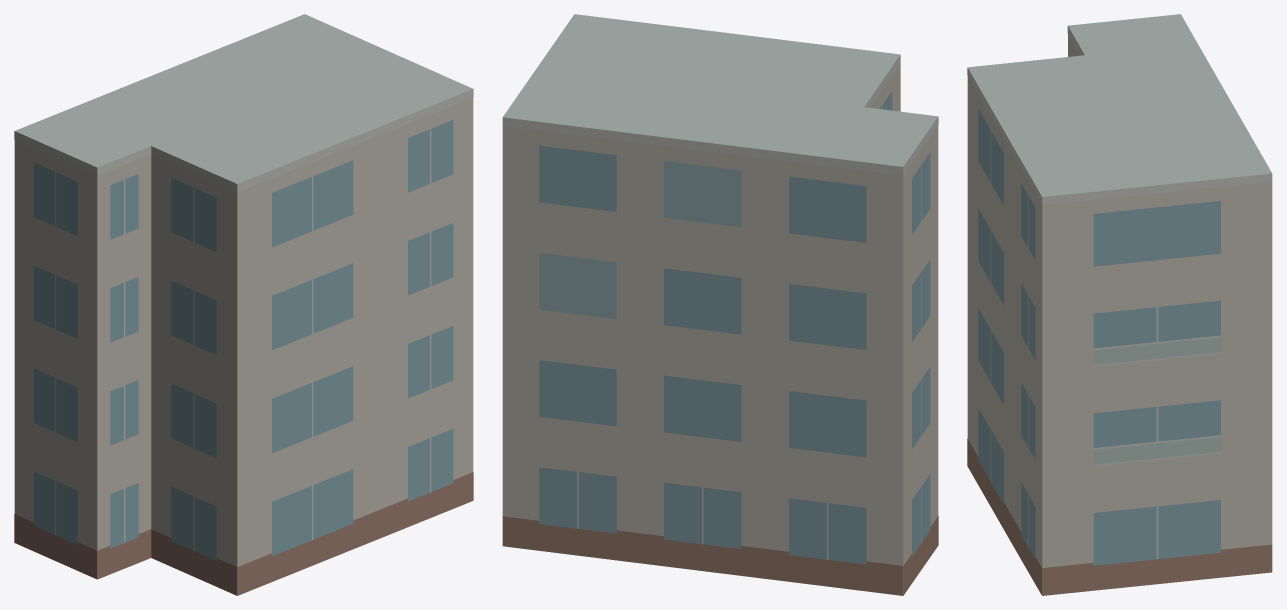
Rendered from residential-2745d4c9-890e-4431-8e39-3f06a8d02001.glb.
3 views of the same model, side by side, from view 1: azimuth 30°, elevation 25°; view 2: azimuth 150°, elevation 25°; view 3: azimuth 270°, elevation 25° (orthographic). The views are drawn at different scales.
Visible parts, largest first — view 1: residential-2745d4c9-890e-4431-8e39-3f06a8d02001.tmp; view 2: residential-2745d4c9-890e-4431-8e39-3f06a8d02001.tmp; view 3: residential-2745d4c9-890e-4431-8e39-3f06a8d02001.tmp.
Boxes of the visible parts, x1=… form: residential-2745d4c9-890e-4431-8e39-3f06a8d02001.tmp: x1=14, y1=14, x2=473, y2=595; residential-2745d4c9-890e-4431-8e39-3f06a8d02001.tmp: x1=502, y1=14, x2=938, y2=595; residential-2745d4c9-890e-4431-8e39-3f06a8d02001.tmp: x1=967, y1=14, x2=1272, y2=595.
Bounding box in the file's own units: 12.02 × 12.2 × 8.46.
